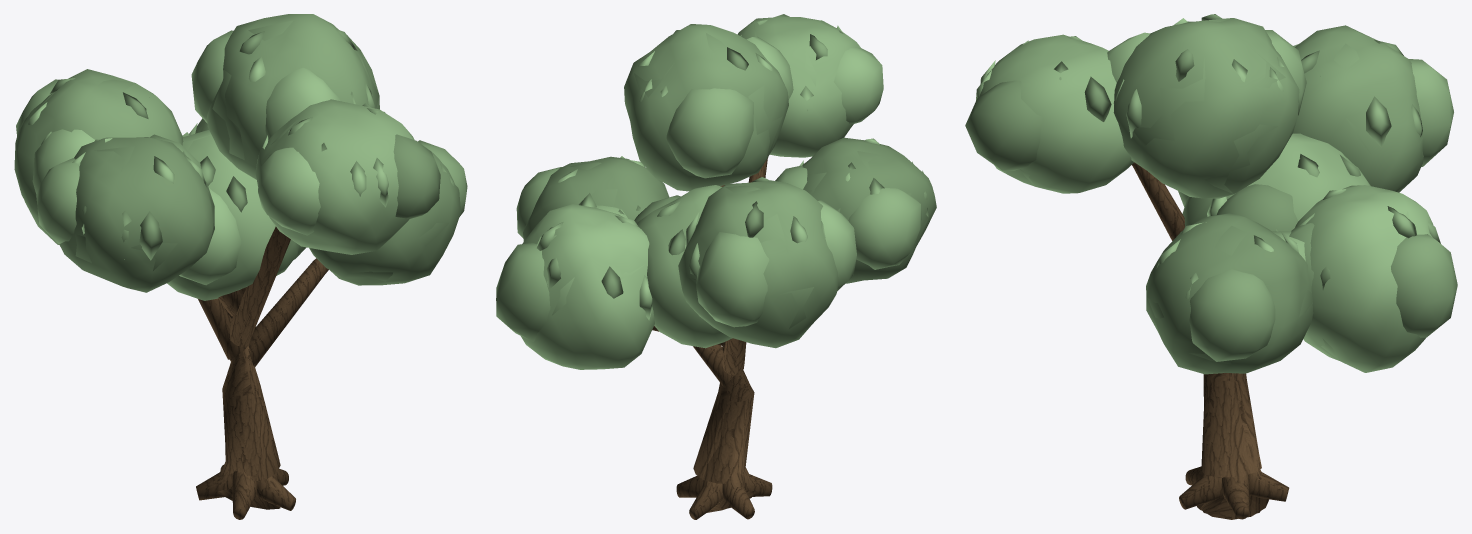
The model's file is env_tree_oak_a_v001.glb.
3 renders of one model, left to right at view 1: azimuth 30°, elevation 25°; view 2: azimuth 150°, elevation 25°; view 3: azimuth 270°, elevation 25°, orthographic. The views are drawn at different scales.
Visible parts, largest first — view 1: env_tree_oak_a_LOD0_mesh, env_tree_oak_a_LOD1_mesh, env_tree_oak_a_LOD2_mesh; view 2: env_tree_oak_a_LOD0_mesh, env_tree_oak_a_LOD1_mesh, env_tree_oak_a_LOD2_mesh; view 3: env_tree_oak_a_LOD0_mesh, env_tree_oak_a_LOD1_mesh, env_tree_oak_a_LOD2_mesh.
Part boxes in pixels (x1=…): env_tree_oak_a_LOD0_mesh: x1=14, y1=14, x2=467, y2=519; env_tree_oak_a_LOD1_mesh: x1=24, y1=20, x2=449, y2=519; env_tree_oak_a_LOD2_mesh: x1=219, y1=227, x2=327, y2=508; env_tree_oak_a_LOD0_mesh: x1=496, y1=14, x2=936, y2=519; env_tree_oak_a_LOD1_mesh: x1=536, y1=23, x2=927, y2=519; env_tree_oak_a_LOD2_mesh: x1=652, y1=165, x2=763, y2=480; env_tree_oak_a_LOD0_mesh: x1=965, y1=14, x2=1457, y2=519; env_tree_oak_a_LOD1_mesh: x1=1019, y1=18, x2=1423, y2=518; env_tree_oak_a_LOD2_mesh: x1=1132, y1=165, x2=1261, y2=510.
Size of the model in its own units: 8 by 9 by 8.
5 materials, 1 textured.
